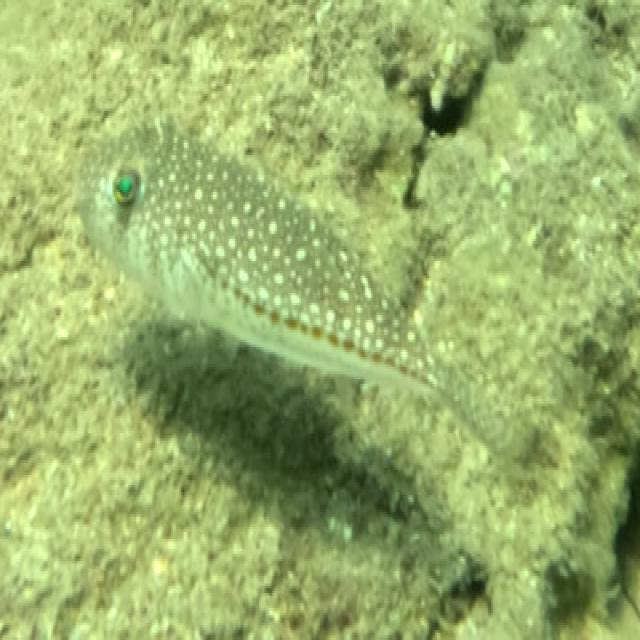Balik: (77, 124, 451, 396)
